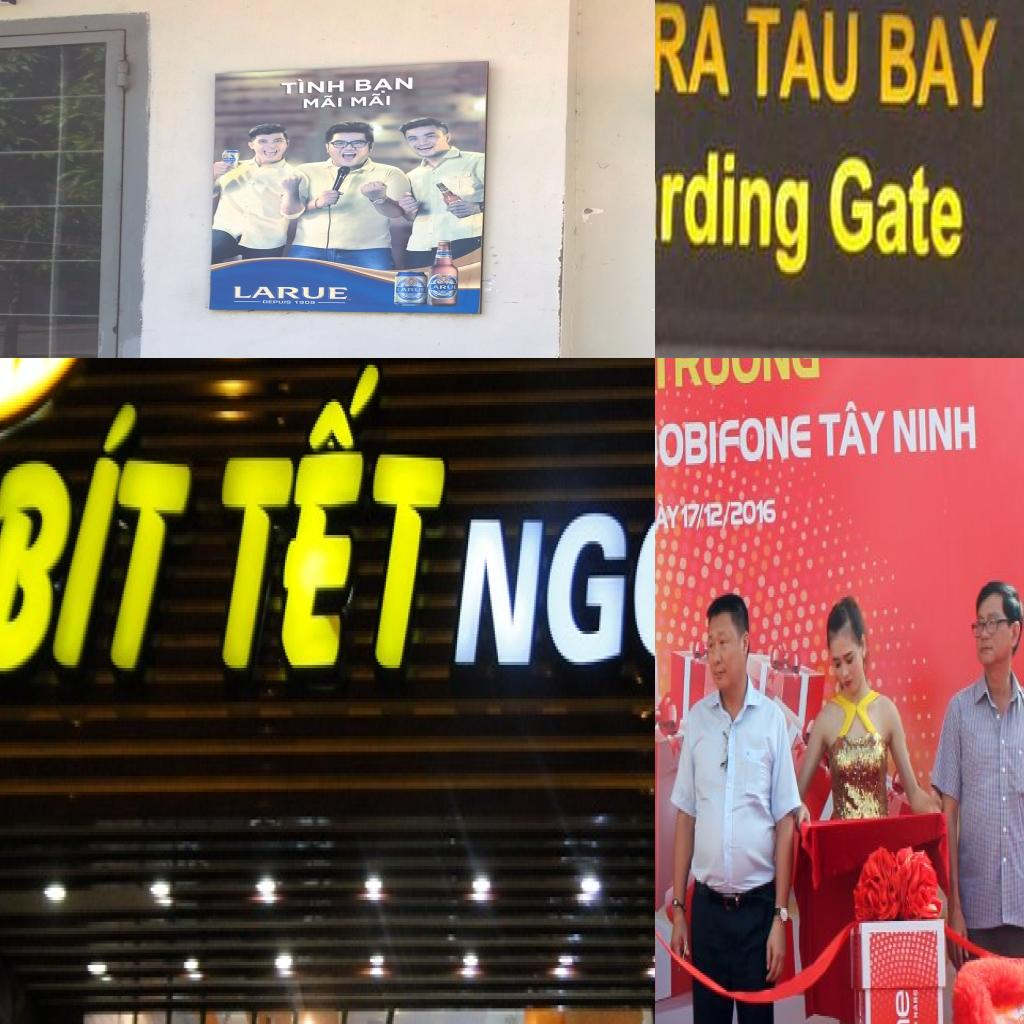text: (198, 358, 460, 702), (0, 392, 208, 705), (655, 120, 811, 286), (876, 1, 1004, 112), (742, 0, 864, 108), (655, 407, 813, 476), (655, 0, 737, 106), (655, 358, 823, 396), (889, 402, 980, 458), (815, 402, 889, 463), (679, 494, 779, 534), (233, 284, 351, 300), (279, 78, 347, 96), (353, 76, 418, 94), (655, 500, 680, 537), (347, 92, 394, 108), (300, 94, 343, 109), (428, 283, 460, 290), (394, 287, 427, 293), (261, 300, 292, 304), (294, 300, 316, 305), (221, 158, 236, 161), (438, 255, 448, 257)
